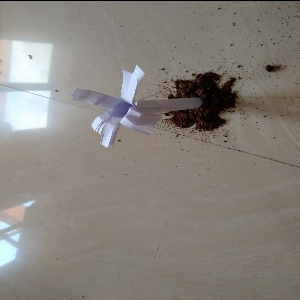weed: (71, 67, 212, 138)
